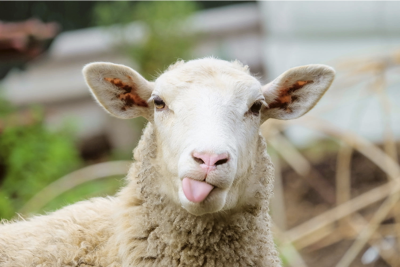koyun: (80, 57, 336, 216)
